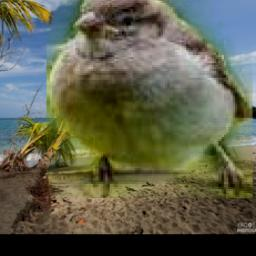Sparrow: (47, 0, 253, 199)
